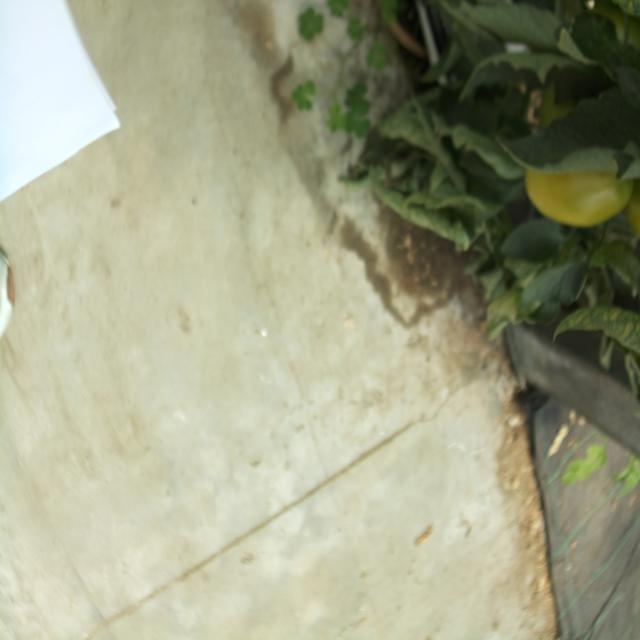yesil: (476, 143, 640, 326)
